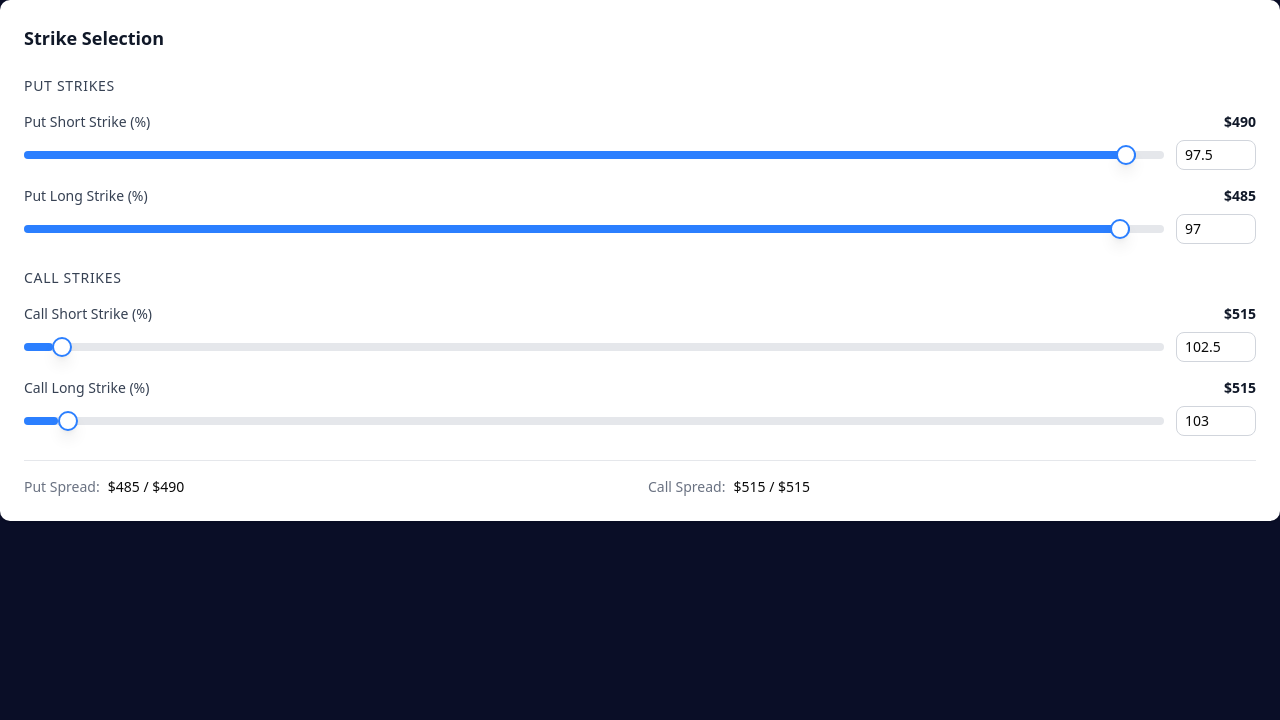
Test: StrikeSelector Component › validates input ranges for put strikes (0-100)
Replace the text in the number field labelled "Put Short Strike (%)" with "105" at (1216, 155), box [1176,140,1256,170]
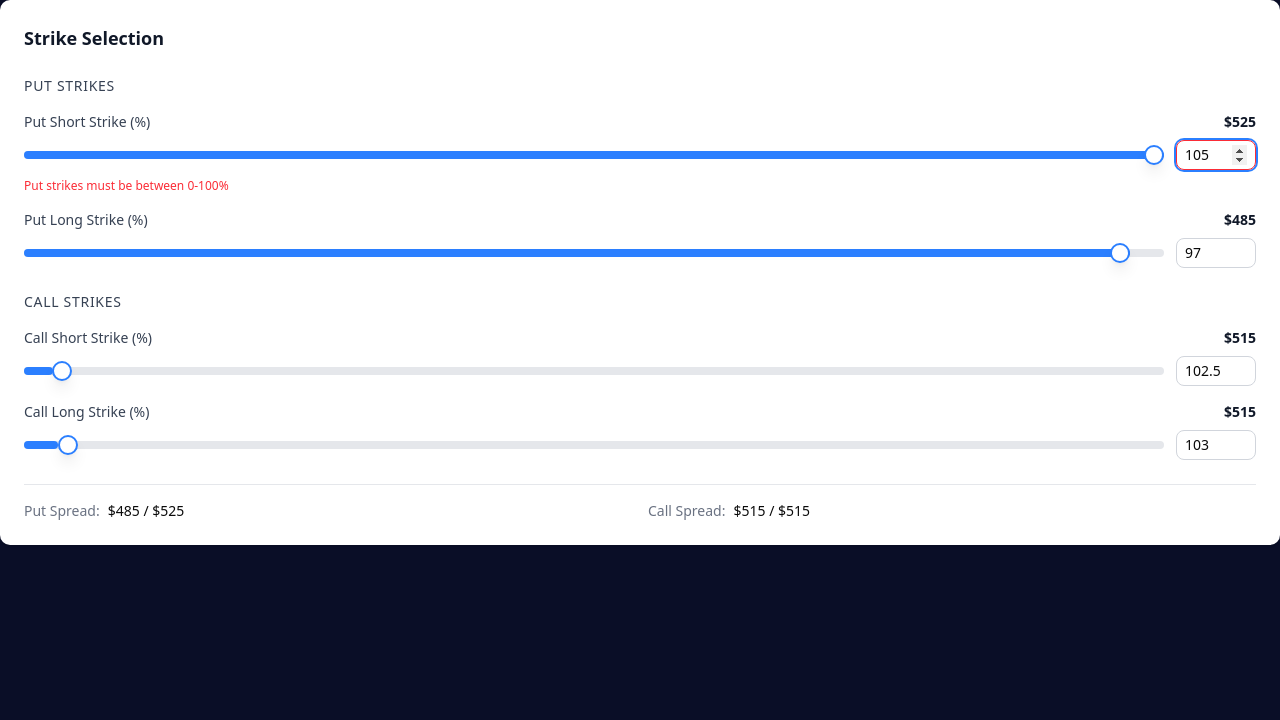
Expected: the text "Put strikes must be between 0-100%" is shown, [24,177,229,194]
